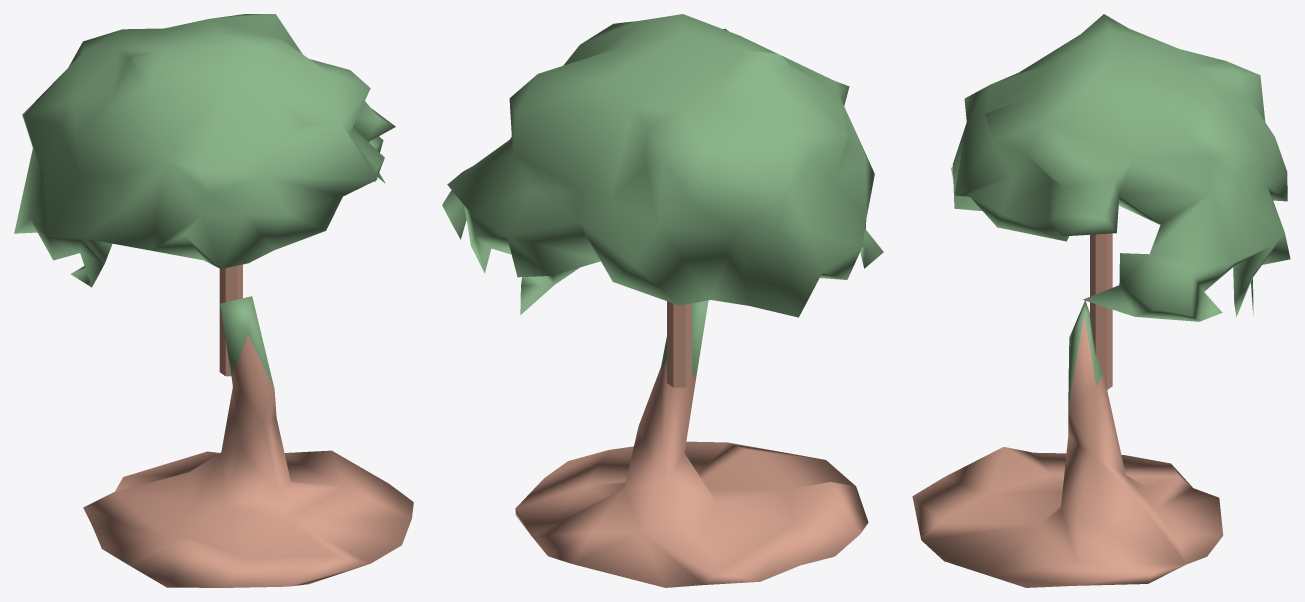
3 views of the same model, side by side, from view 1: azimuth 30°, elevation 25°; view 2: azimuth 150°, elevation 25°; view 3: azimuth 270°, elevation 25° (orthographic). The views are drawn at different scales.
Visible parts, largest first — view 1: 잎이 넓은 작은 나무, Canopy trunk connection; view 2: 잎이 넓은 작은 나무, Canopy trunk connection; view 3: 잎이 넓은 작은 나무, Canopy trunk connection.
Part boxes in pixels (<box>): 잎이 넓은 작은 나무: <box>14,14,413,587</box>; Canopy trunk connection: <box>219,264,242,376</box>; 잎이 넓은 작은 나무: <box>442,14,883,587</box>; Canopy trunk connection: <box>667,301,691,387</box>; 잎이 넓은 작은 나무: <box>912,14,1290,587</box>; Canopy trunk connection: <box>1090,233,1112,390</box>.
Size of the model in its own units: 124 by 160 by 116.
